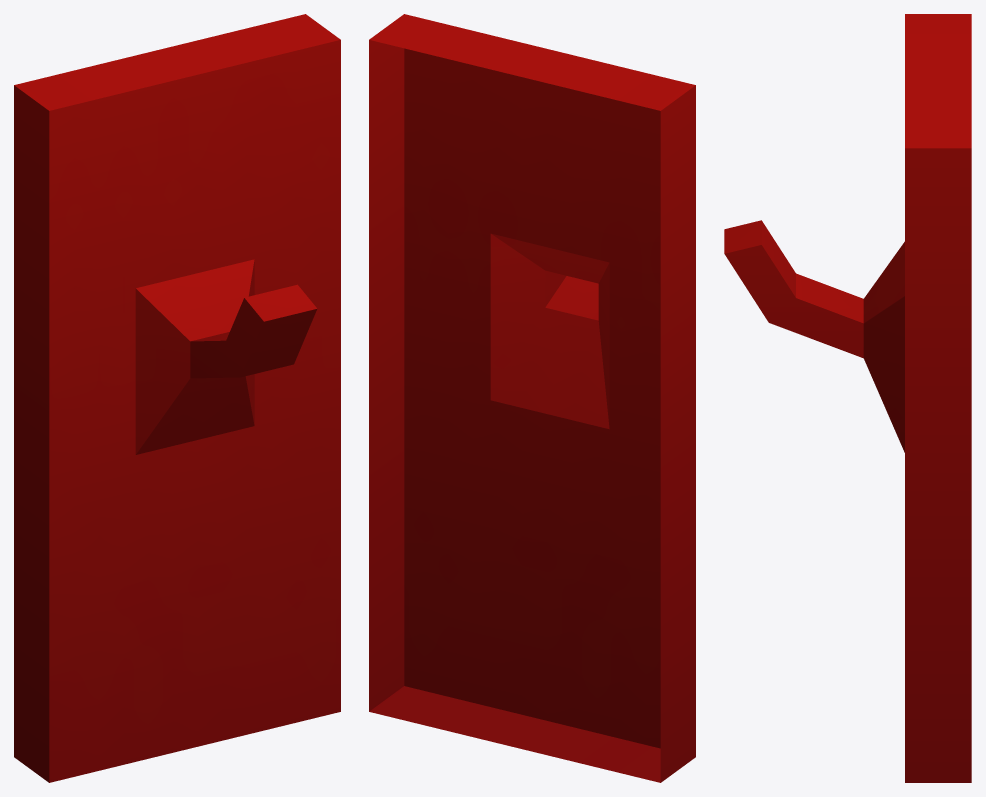
The model's file is FireExtinguisher_Hook.fbx.
3 views of the same model, side by side, from view 1: azimuth 30°, elevation 25°; view 2: azimuth 150°, elevation 25°; view 3: azimuth 270°, elevation 25° (orthographic). The views are drawn at different scales.
Parts seen in each view (by area): view 1: FireExtinguisher_Hook; view 2: FireExtinguisher_Hook; view 3: FireExtinguisher_Hook.
Boxes of the visible parts, x1,y1,x2,y2 form: FireExtinguisher_Hook: (14,14,340,782); FireExtinguisher_Hook: (369,14,695,782); FireExtinguisher_Hook: (724,14,971,782).
Size of the model in its own units: 13.09 by 28.82 by 10.17.
